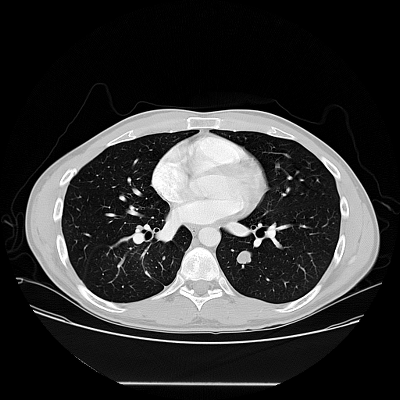nodule: (236, 249, 252, 265)
